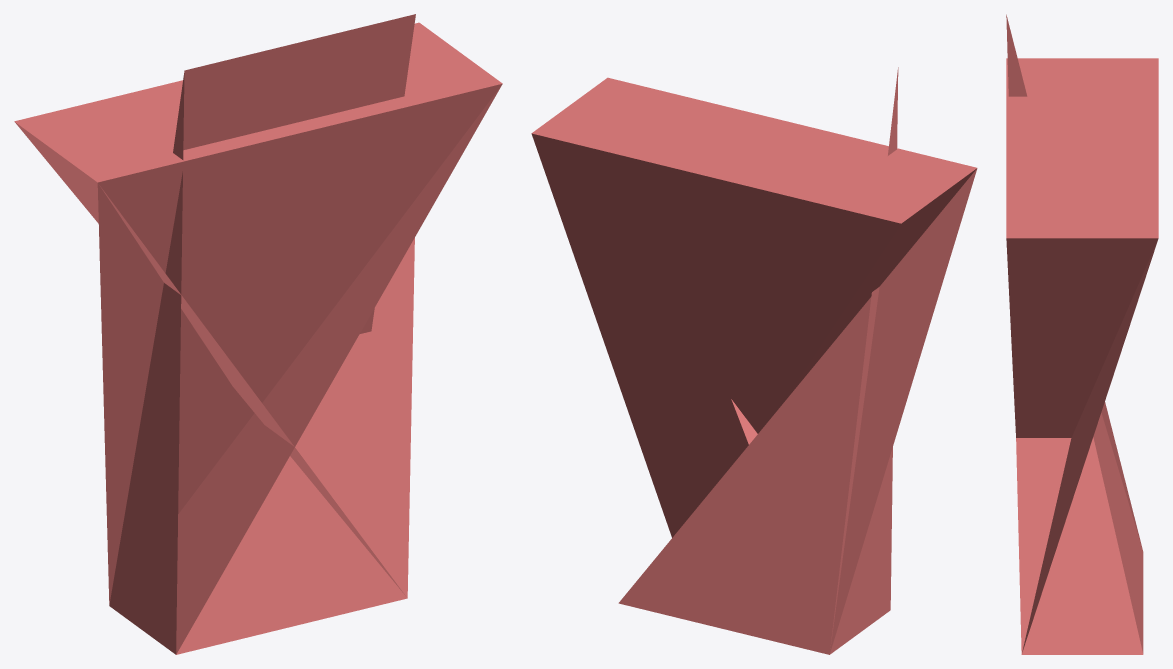
File: tank_top.gltf
3 views of the same model, side by side, from view 1: azimuth 30°, elevation 25°; view 2: azimuth 150°, elevation 25°; view 3: azimuth 270°, elevation 25° (orthographic). The views are drawn at different scales.
Visible parts, largest first — view 1: Tank_Top; view 2: Tank_Top; view 3: Tank_Top.
Part boxes in pixels (box(x1,y1,x2,y2)): Tank_Top: box(14, 14, 502, 654); Tank_Top: box(531, 67, 977, 654); Tank_Top: box(1006, 14, 1158, 654).
Size of the model in its own units: 1.4 by 1.95 by 0.5.
